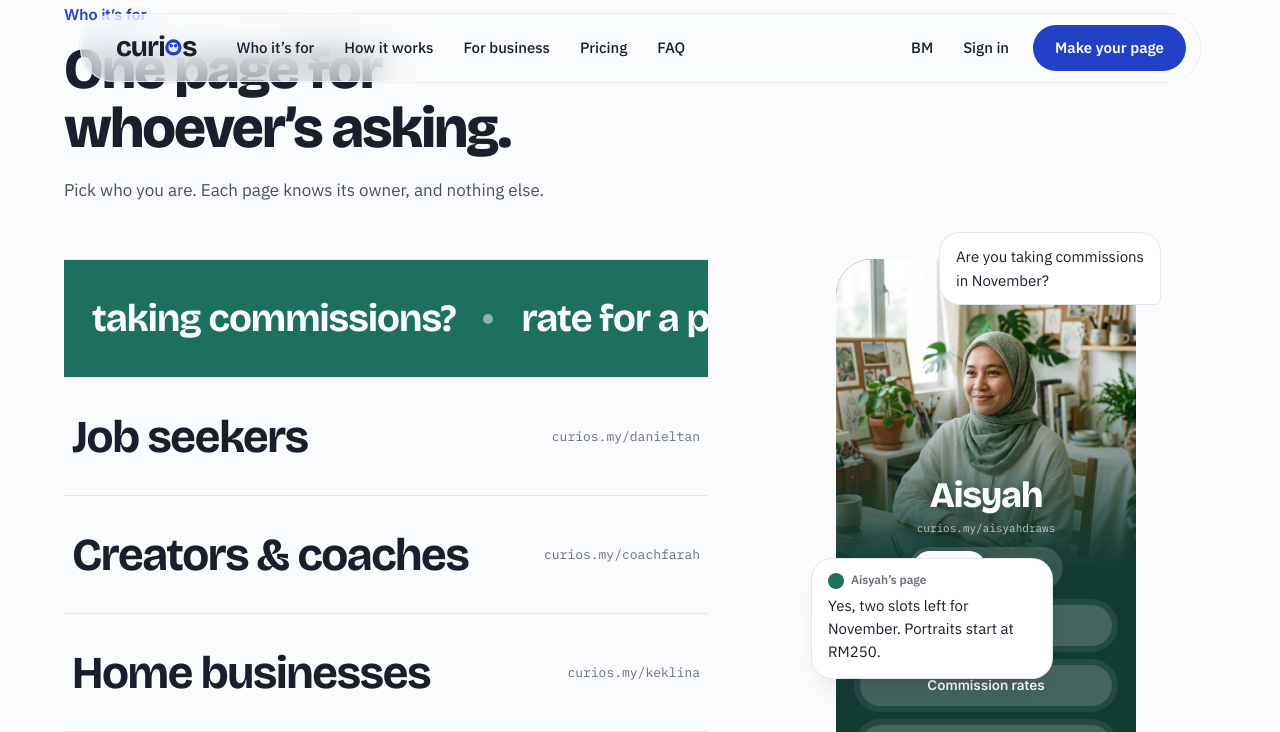
it: the floating chat › the floating chat's reply is a white card with the label
The image size is (1280, 732).
(page scrolled)
Hover over the button "Job seekers": (190, 436) 64,377 -> 708,495
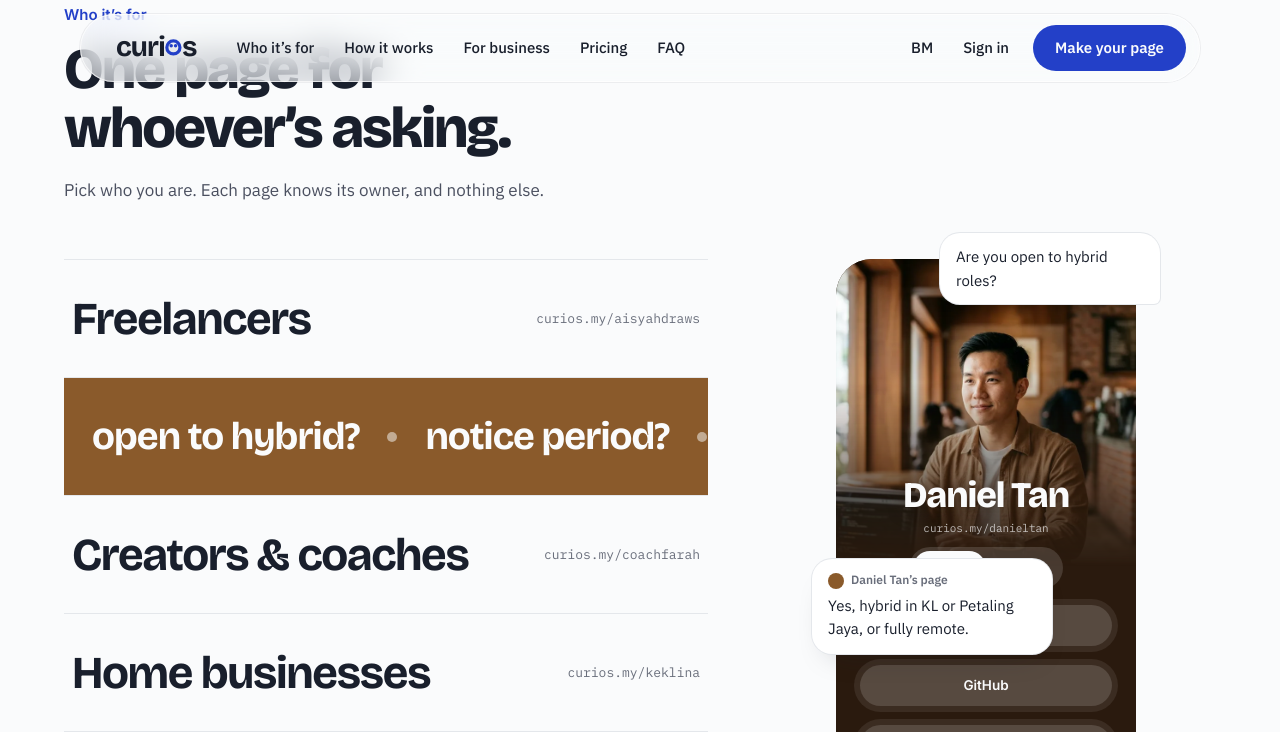
Now the text "Yes, hybrid in KL or Petaling Jaya, or fully remote." shows "Daniel Tan’s page", box 851,572 -> 948,587
